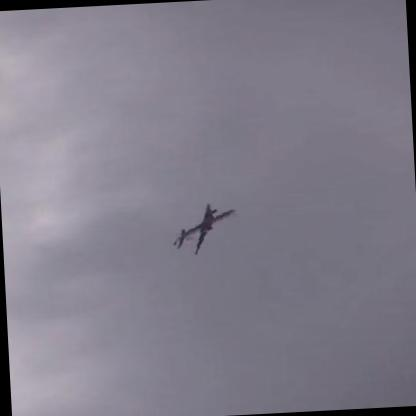plane: (169, 199, 241, 257)
